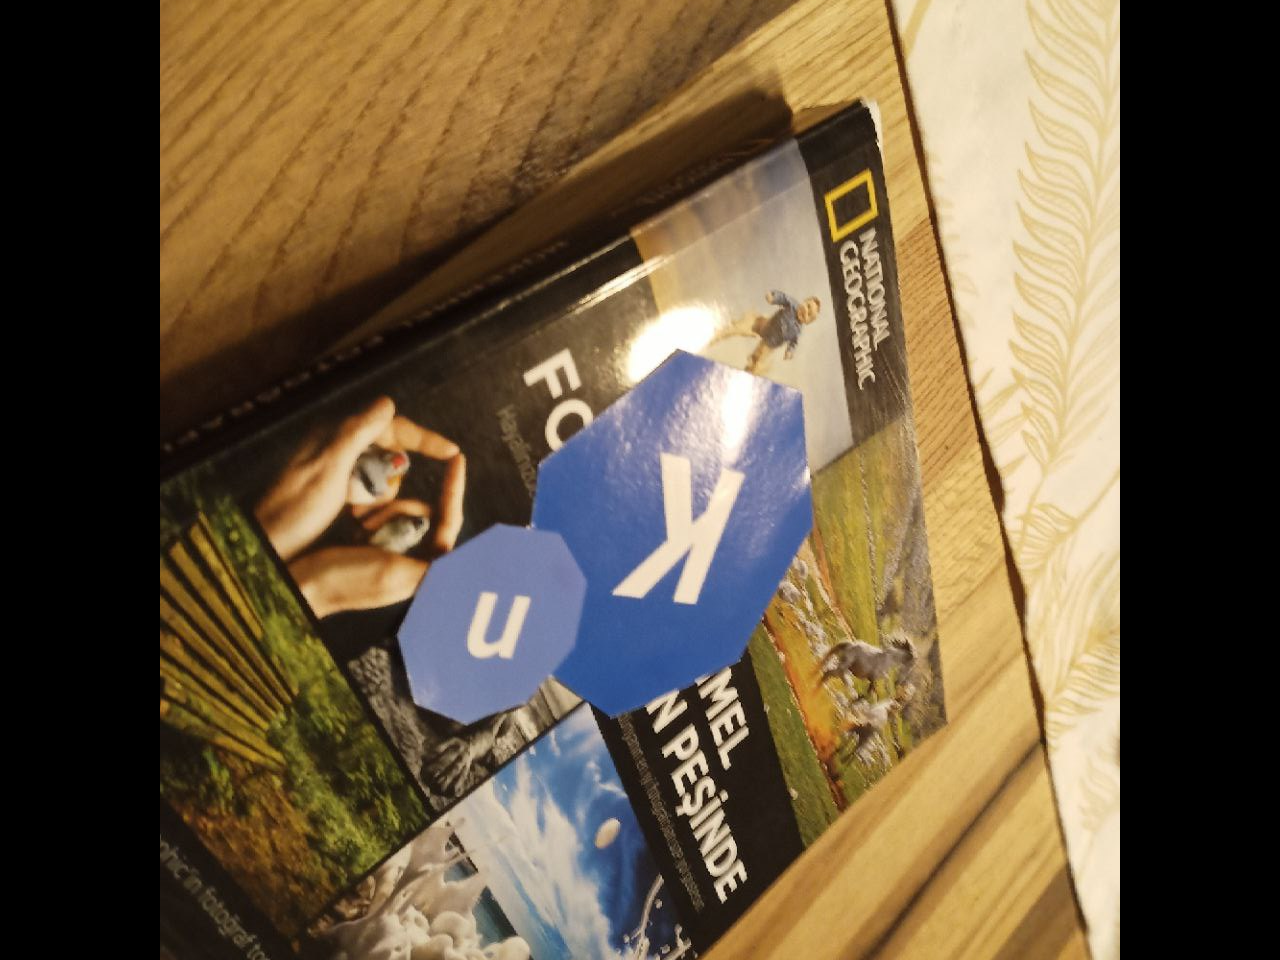knative: (406, 349, 816, 727)
